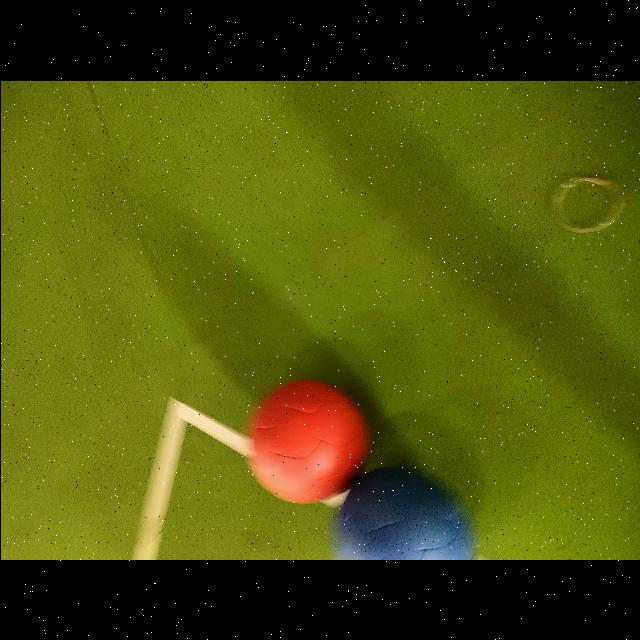B: (335, 466, 471, 560)
R: (249, 381, 369, 503)
